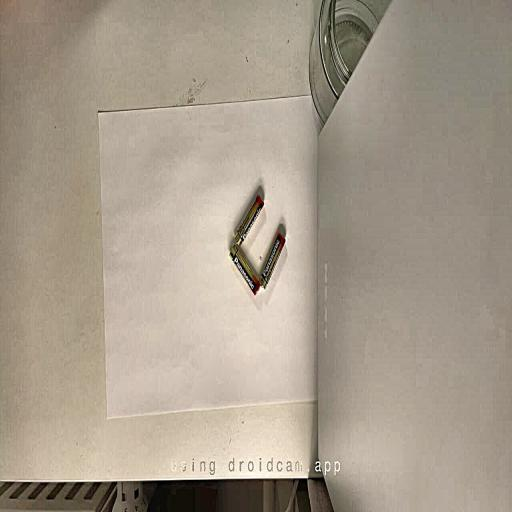PanasonicAAA: (230, 244, 260, 294), (235, 194, 264, 245), (260, 231, 285, 288)
